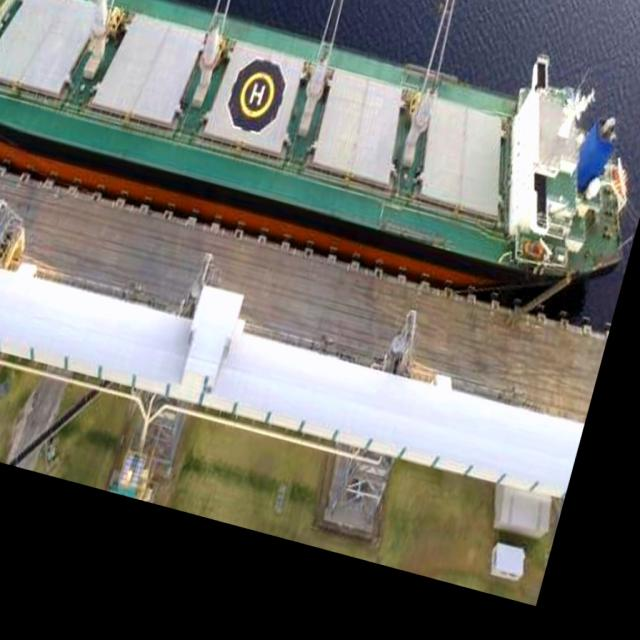helipad: (239, 71, 274, 118)
